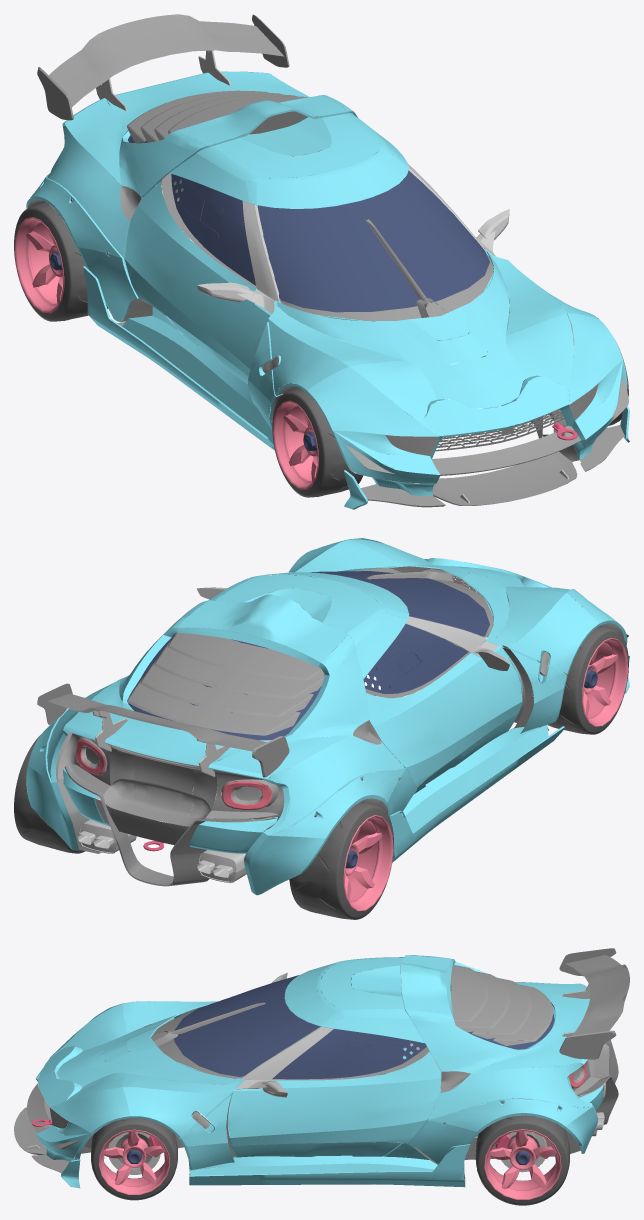
File: strts.gltf
3 views of the same model, one above another, from view 1: azimuth 30°, elevation 25°; view 2: azimuth 150°, elevation 25°; view 3: azimuth 270°, elevation 25° (orthographic). The views are drawn at different scales.
Visible parts, largest first — view 1: node-0; view 2: node-0; view 3: node-0.
Part boxes in pixels (x1=…): node-0: x1=14, y1=14, x2=629, y2=509; node-0: x1=14, y1=538, x2=629, y2=919; node-0: x1=14, y1=948, x2=629, y2=1205.
Size of the model in its own units: 10.76 by 6.96 by 21.92.
